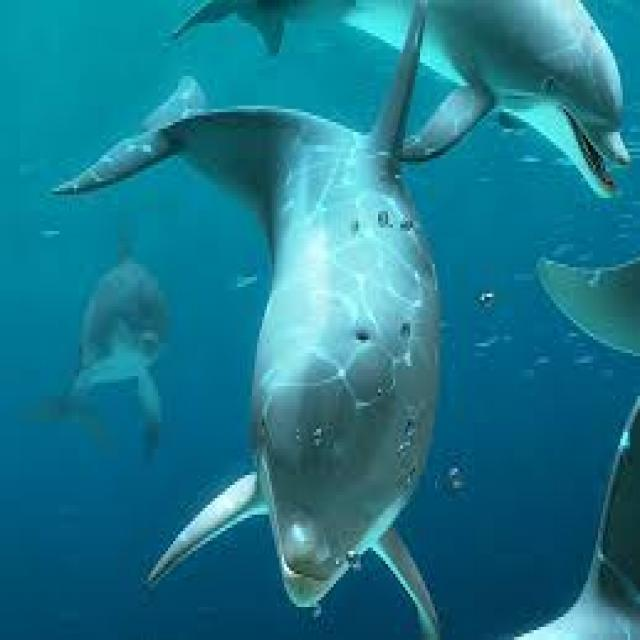dolphin: (54, 59, 474, 640)
